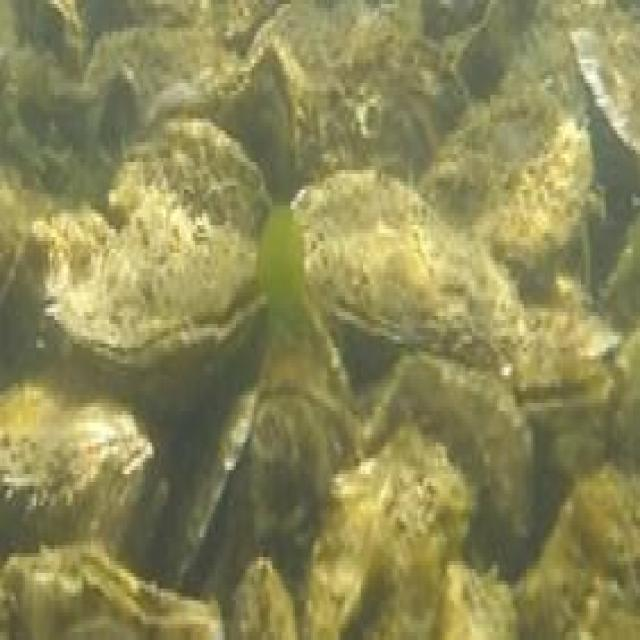Oyster- Indeterminate: (50, 122, 270, 369), (358, 352, 539, 574), (298, 436, 477, 640), (422, 79, 598, 265), (314, 41, 473, 207), (252, 0, 424, 137), (512, 466, 640, 640), (235, 383, 364, 554), (0, 180, 117, 340), (561, 0, 640, 147), (505, 1, 589, 121), (505, 303, 623, 378), (442, 566, 517, 640), (610, 331, 640, 458)
Oyster-Closed: (289, 171, 529, 365), (0, 381, 150, 550), (0, 547, 227, 640), (158, 394, 258, 593), (251, 49, 313, 192), (442, 1, 521, 87)
Oyster-Open: (507, 354, 612, 433), (231, 564, 297, 640)
